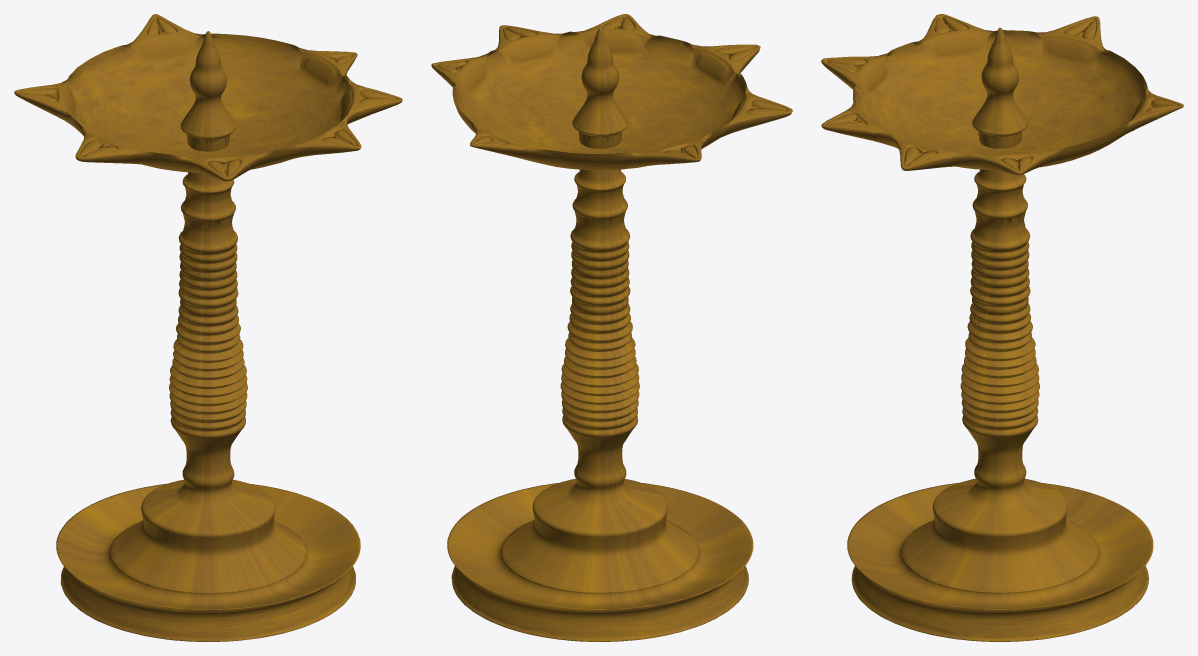
Rendered from diya.glb.
The picture shows the model from 3 angles, left to right: view 1: azimuth 30°, elevation 25°; view 2: azimuth 150°, elevation 25°; view 3: azimuth 270°, elevation 25°; orthographic projection.
Parts seen in each view (by area): view 1: Cylinder, Sphere; view 2: Cylinder, Sphere; view 3: Cylinder, Sphere.
Part boxes in pixels (left/top/right/bottom): Cylinder: left=56, top=31, right=360, bottom=641; Sphere: left=14, top=14, right=402, bottom=181; Cylinder: left=447, top=27, right=753, bottom=641; Sphere: left=431, top=14, right=792, bottom=170; Cylinder: left=847, top=27, right=1153, bottom=641; Sphere: left=821, top=14, right=1183, bottom=174.
Bounding box in the file's own units: 2.45 × 4.03 × 2.4.
Materials: 1 (1 with a texture image).
